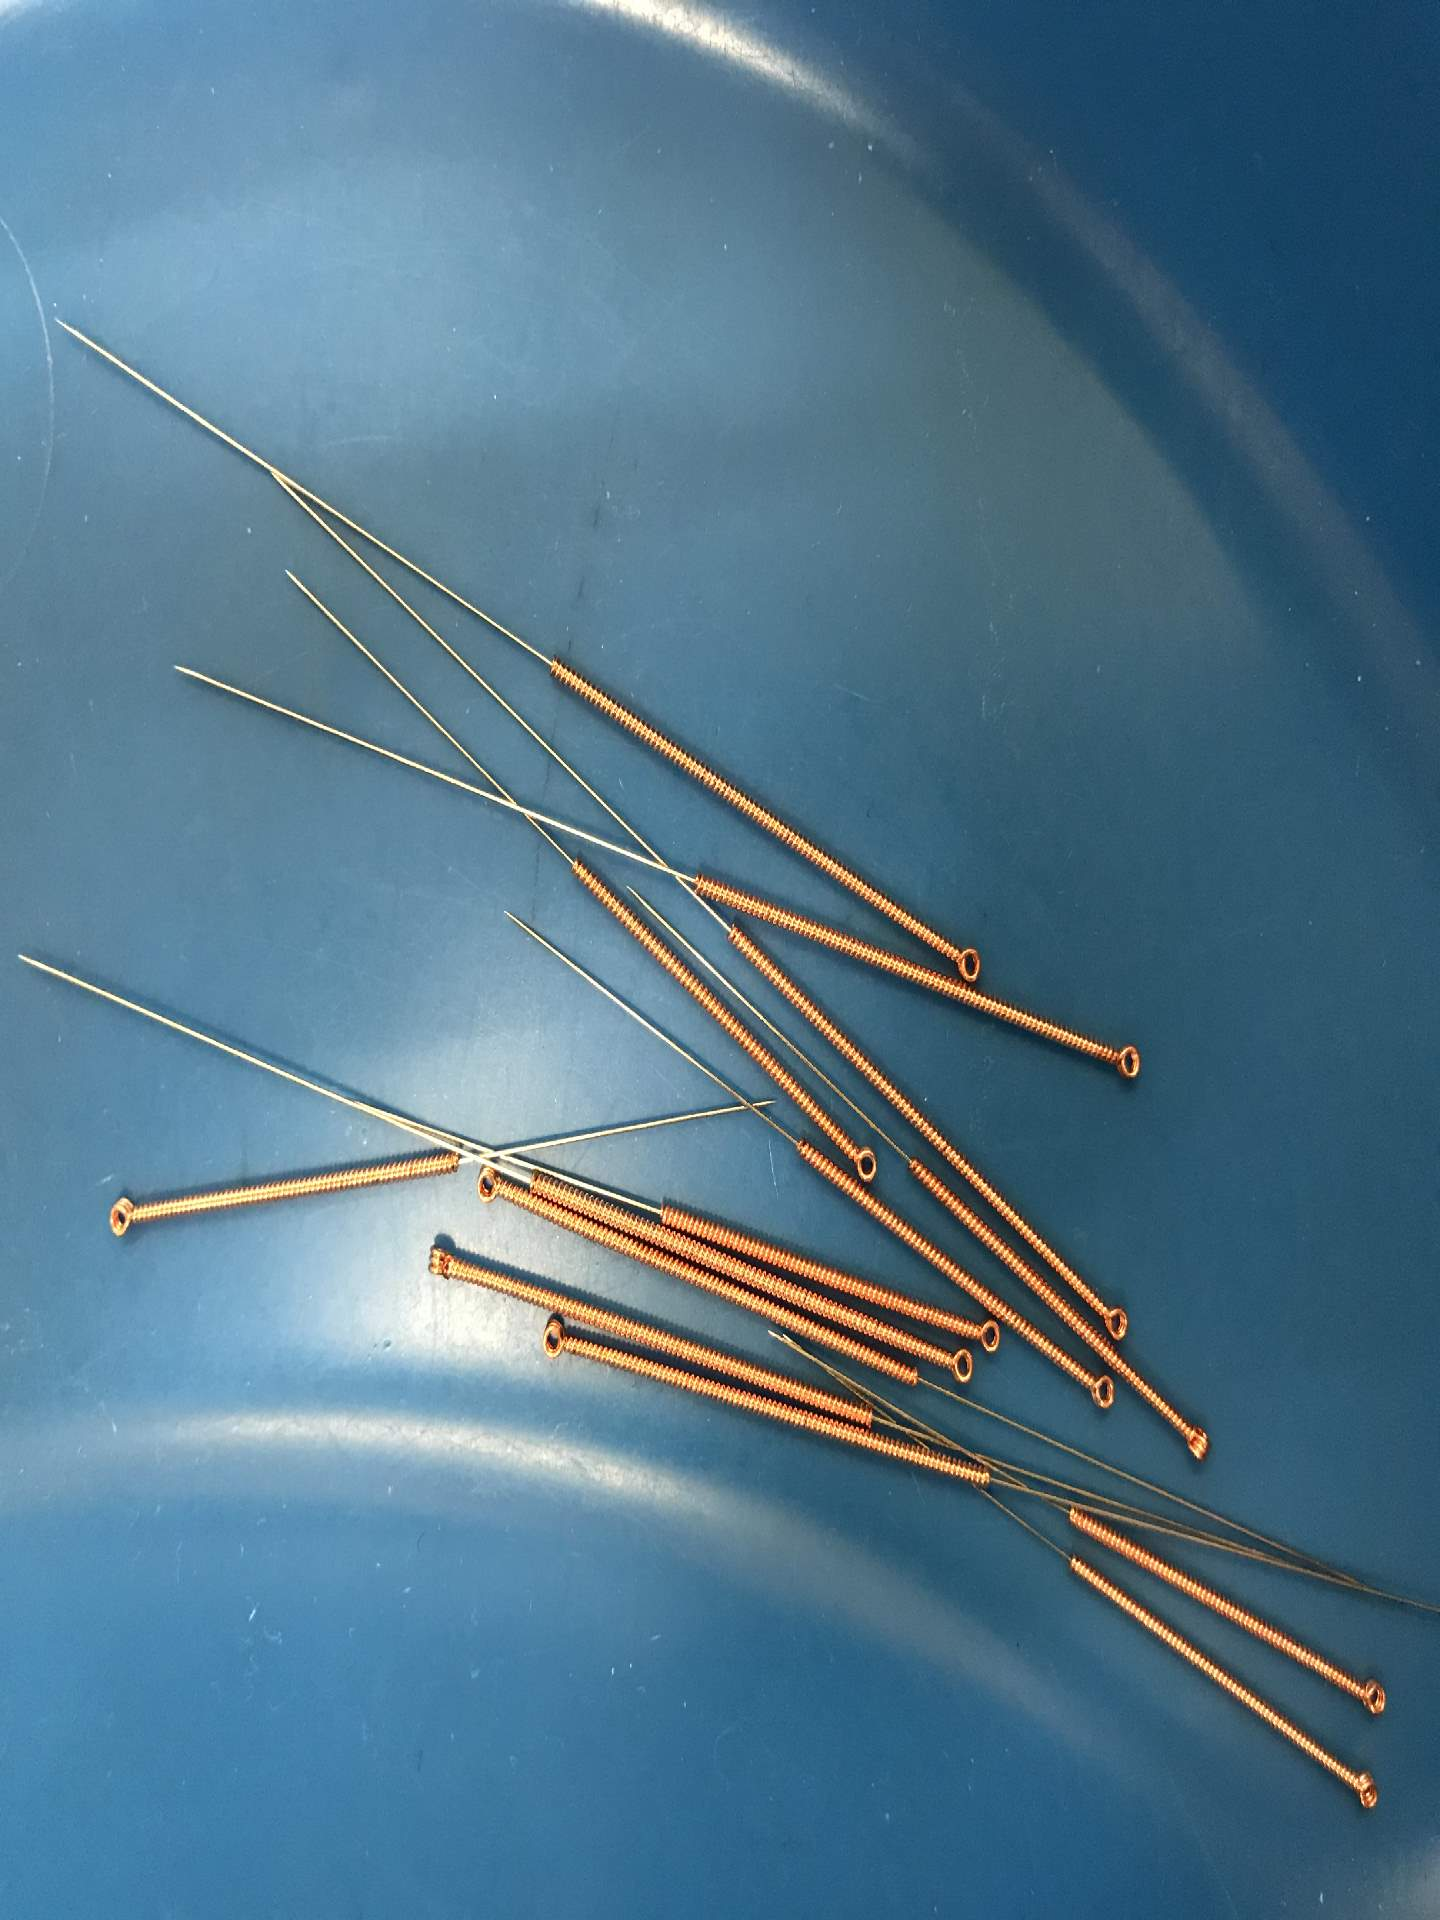needle: (1094, 1027, 1153, 1095), (92, 1184, 153, 1249), (1333, 1760, 1389, 1822), (1171, 1407, 1221, 1473), (417, 1228, 466, 1293), (1345, 1668, 1398, 1723), (529, 1311, 579, 1368), (464, 1160, 514, 1215), (939, 937, 989, 989), (843, 1125, 882, 1188), (936, 1341, 979, 1391), (1095, 1293, 1133, 1346), (1082, 1368, 1119, 1420), (971, 1314, 1004, 1359)
